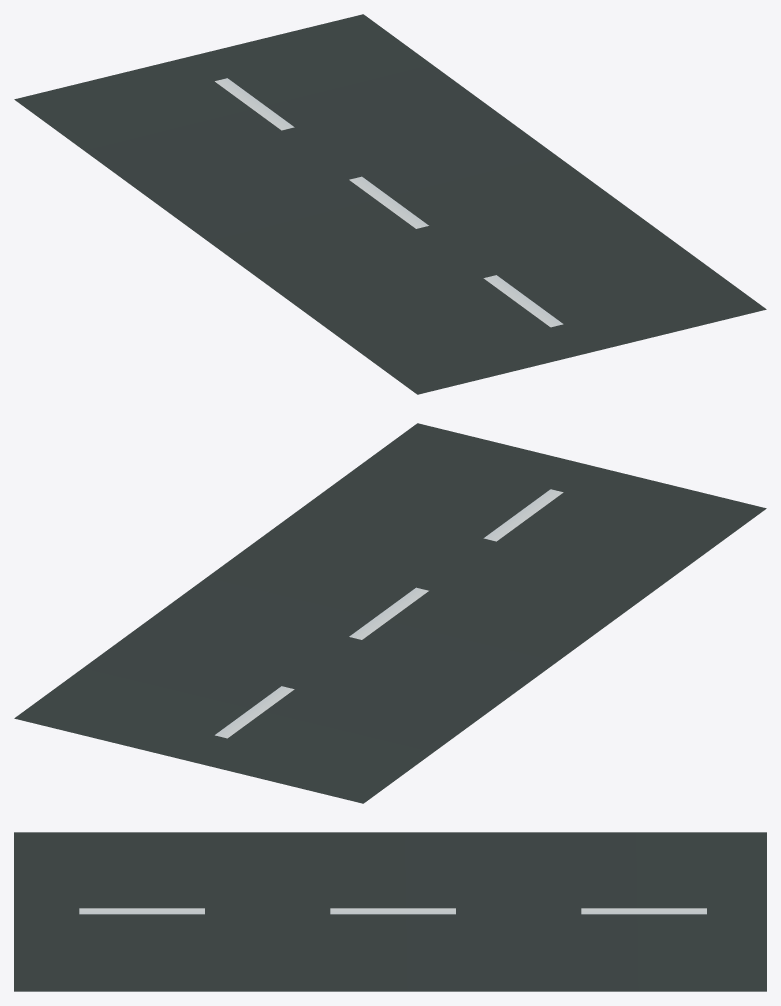
The model's file is Road_2_102.fbx.
The picture shows the model from 3 angles, top to bottom: view 1: azimuth 30°, elevation 25°; view 2: azimuth 150°, elevation 25°; view 3: azimuth 270°, elevation 25°; orthographic projection. The views are drawn at different scales.
Visible parts, largest first — view 1: Road_2_102; view 2: Road_2_102; view 3: Road_2_102.
Boxes of the visible parts, x1=… form: Road_2_102: x1=14, y1=14, x2=766, y2=394; Road_2_102: x1=14, y1=423, x2=766, y2=803; Road_2_102: x1=14, y1=832, x2=766, y2=991.
Size of the model in its own units: 900 by 1.66 by 1800.
